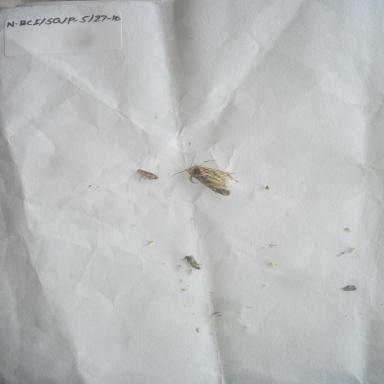pbw: (166, 154, 246, 198), (182, 252, 204, 272), (134, 167, 161, 183)
